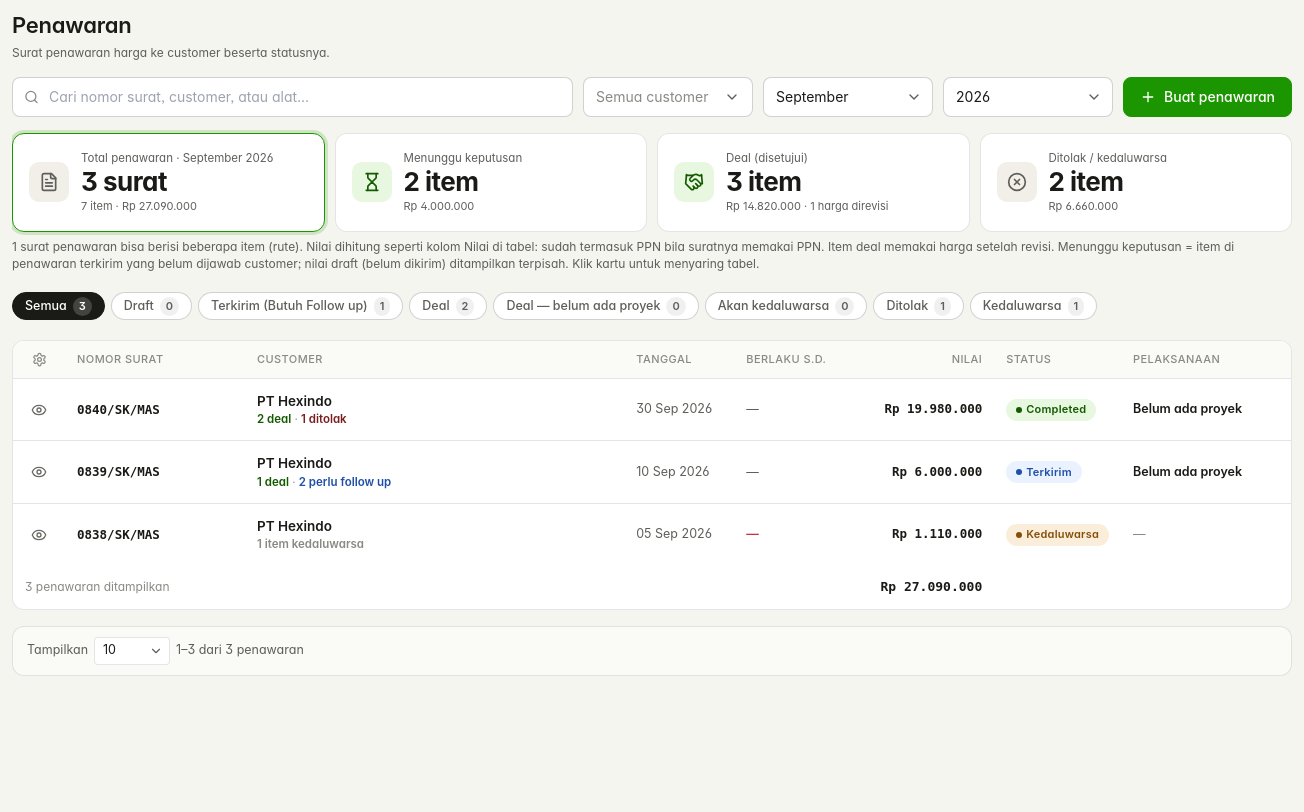
QuotationsListView — periode & kartu monitoring › klik kartu Menunggu keputusan menyaring penawaran terkirim yang masih punya item menunggu
Click the button "Menunggu keputusan 2 item Rp 4.000.000" at (372, 182), box 334,133 -> 647,232
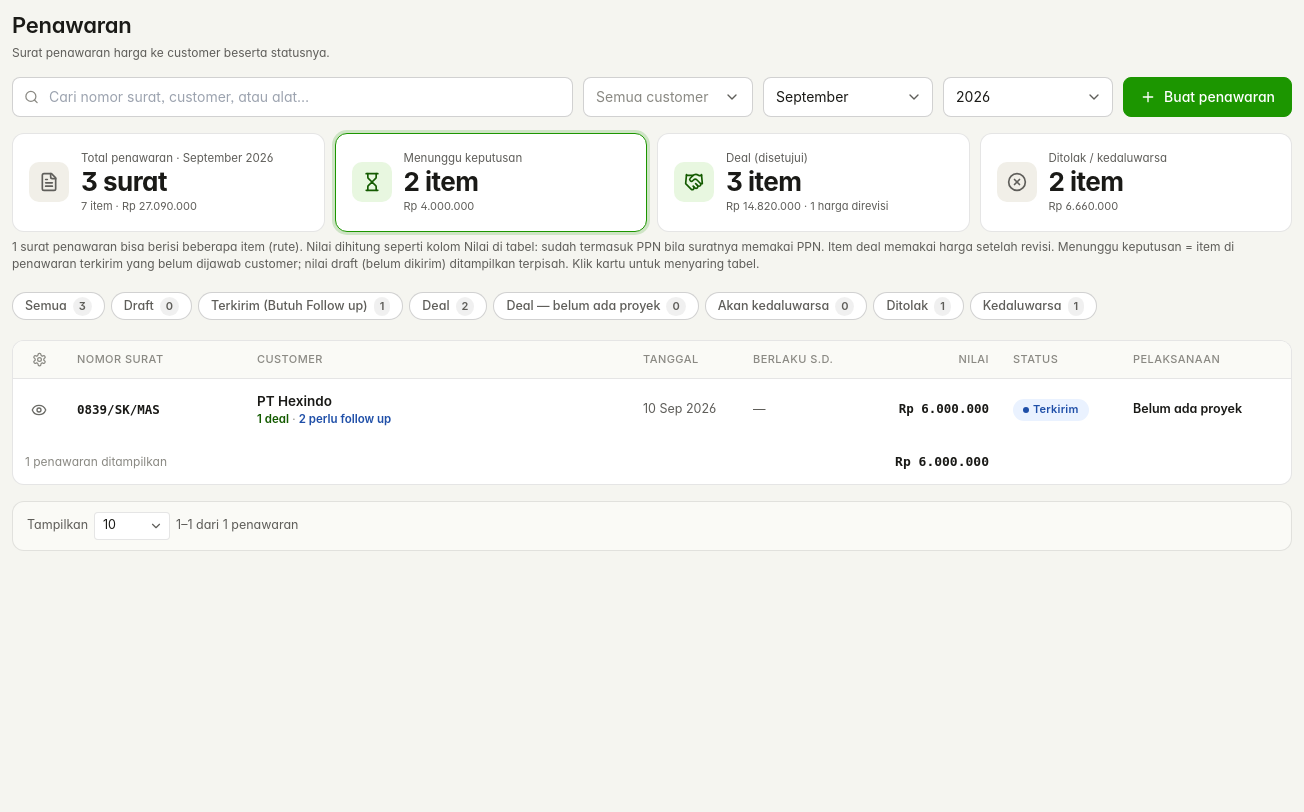
Expected: the text "0839/SK/MAS" is shown, 77,402 -> 160,417
Now the text "0838/SK/MAS" is gone
Now the text "0840/SK/MAS" is gone
